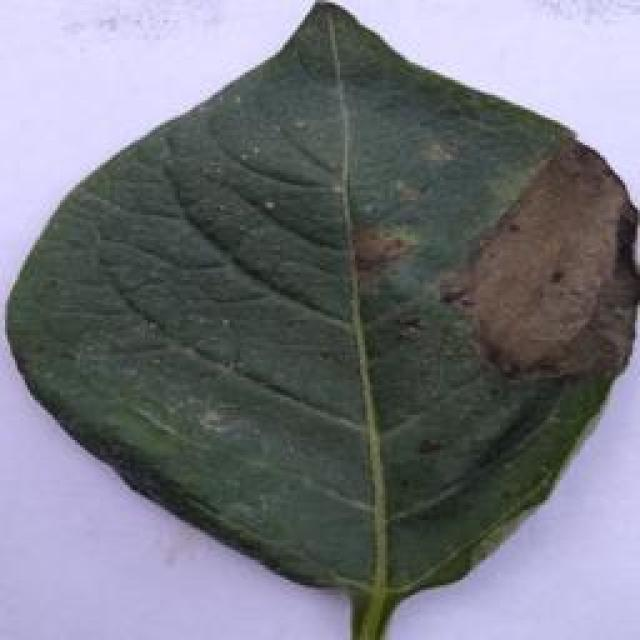Potato_Late_Blight: (10, 8, 640, 630)
